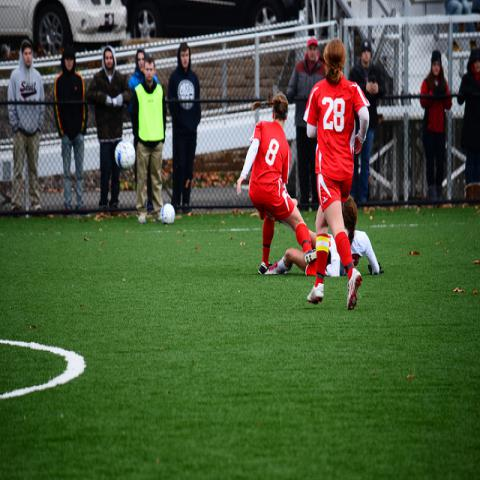car: (123, 1, 306, 42), (1, 1, 126, 52)
